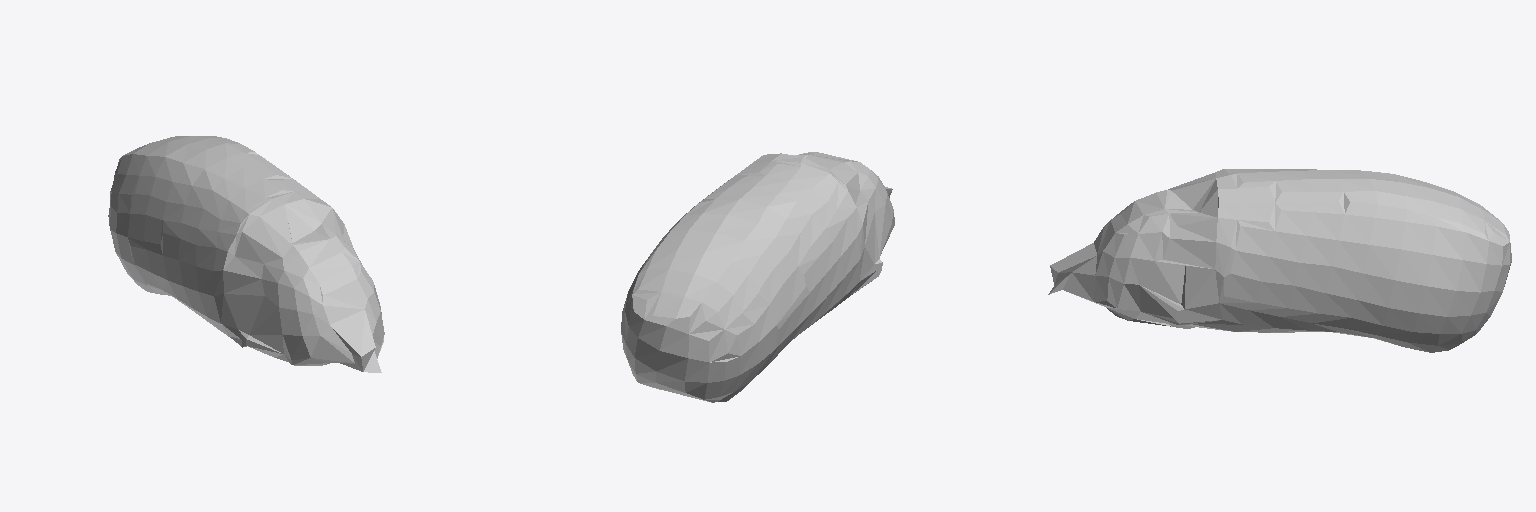
Rendered from sim_ecub_l_hand_index_3.obj.
The picture shows the model from 3 angles: view 1: azimuth 30°, elevation 25°; view 2: azimuth 150°, elevation 25°; view 3: azimuth 270°, elevation 25°; orthographic projection.
Bounding box in the file's own units: 17.33 × 18.81 × 51.04.